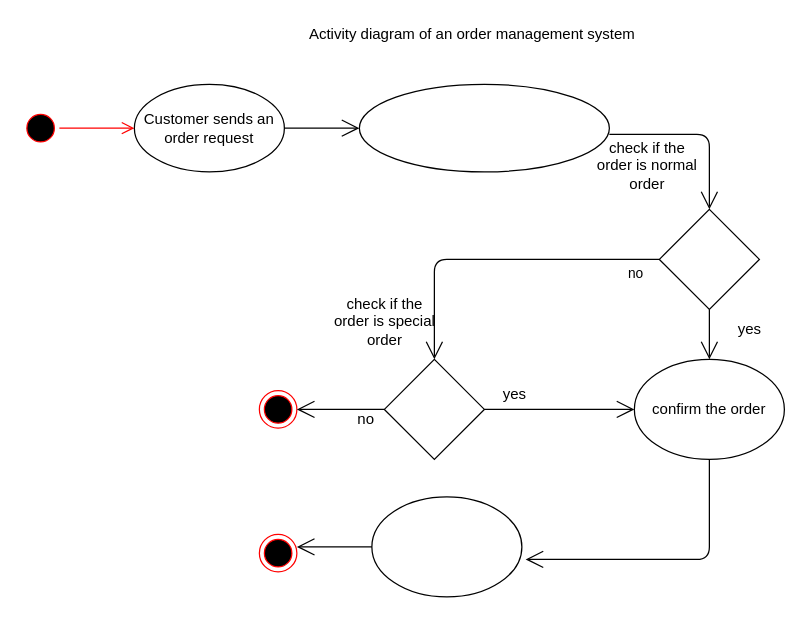
Some shapes in this 806 by 619 pixel diagram are drawn without their labels. The centre of each missing label's shape, as x and y in pixels:
"Dispatch the order" goes at [446,546].
"Order request system confirms the receipt of the order" goes at [483,127].
